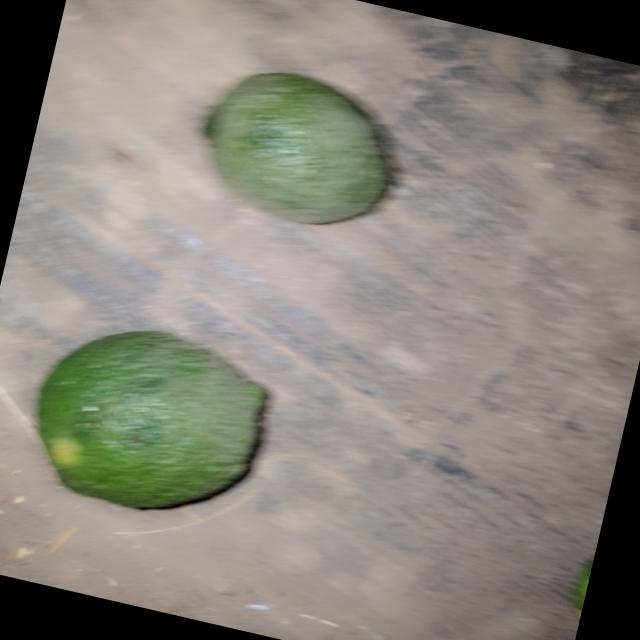agrume: (0, 287, 307, 563), (183, 46, 429, 259)
